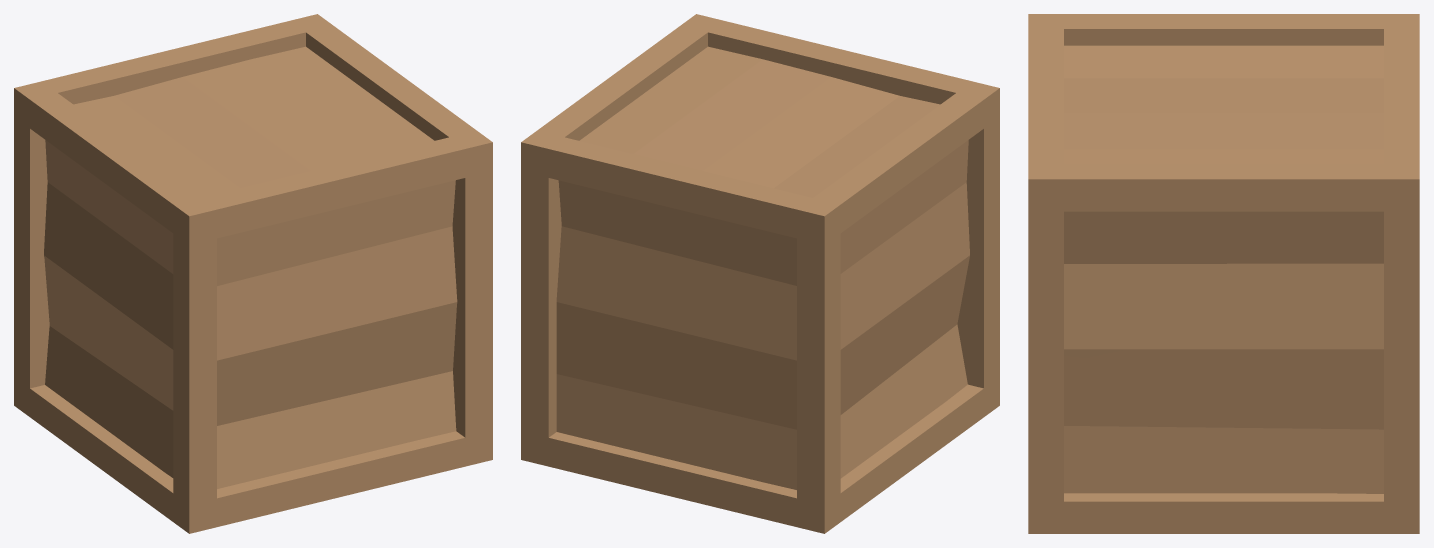
File: Crate.glb
3 renders of one model, left to right at view 1: azimuth 30°, elevation 25°; view 2: azimuth 150°, elevation 25°; view 3: azimuth 270°, elevation 25°, orthographic. The views are drawn at different scales.
Parts seen in each view (by area): view 1: Cube; view 2: Cube; view 3: Cube.
Boxes of the visible parts, left/top/right/bottom form: Cube: left=14, top=14, right=492, bottom=533; Cube: left=521, top=14, right=999, bottom=533; Cube: left=1028, top=14, right=1419, bottom=533.
Size of what is drawn, in the model's own units: 2.2 by 2.2 by 2.2.
